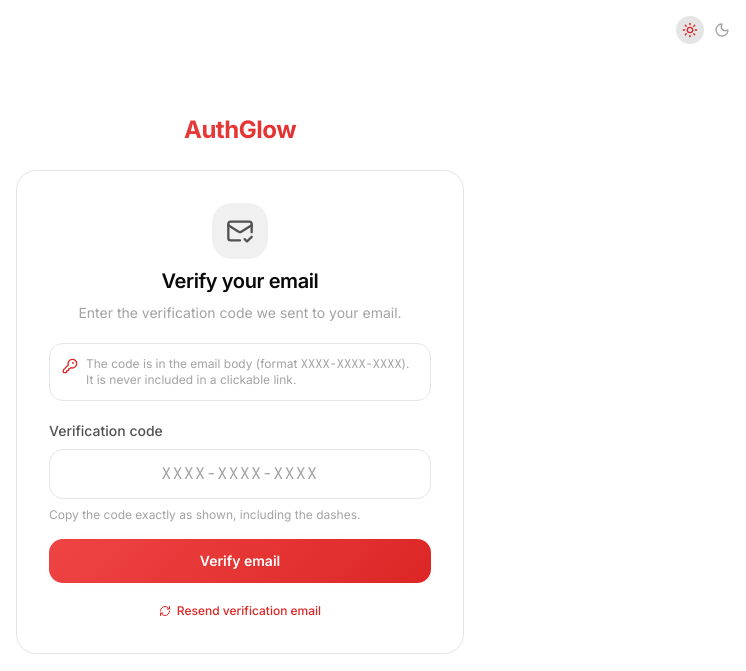
Test case: EmailVerifiedPage › shows success message after resend
The width and height of the screenshot is (746, 671).
Step 1. Click the button "Resend verification email" → (240, 611), box 159,603 -> 321,619
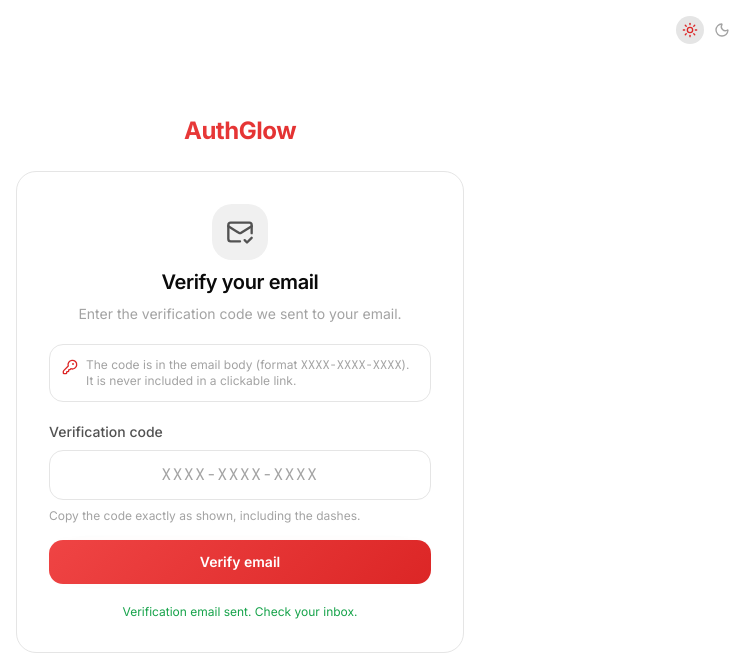
Result: the text "Verification email sent. Check your inbox." is shown at 122,604 -> 358,619
